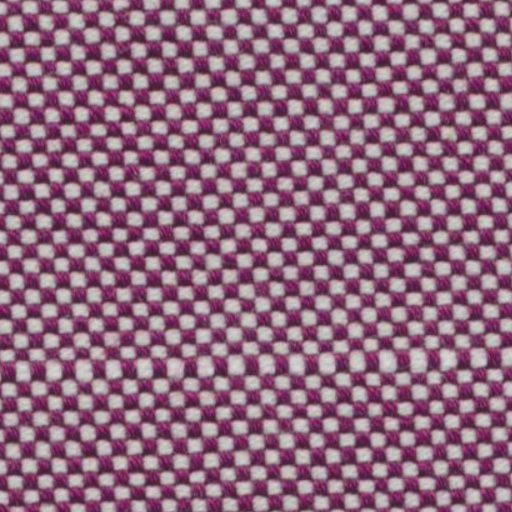TuoSha: (10, 334, 496, 392)
